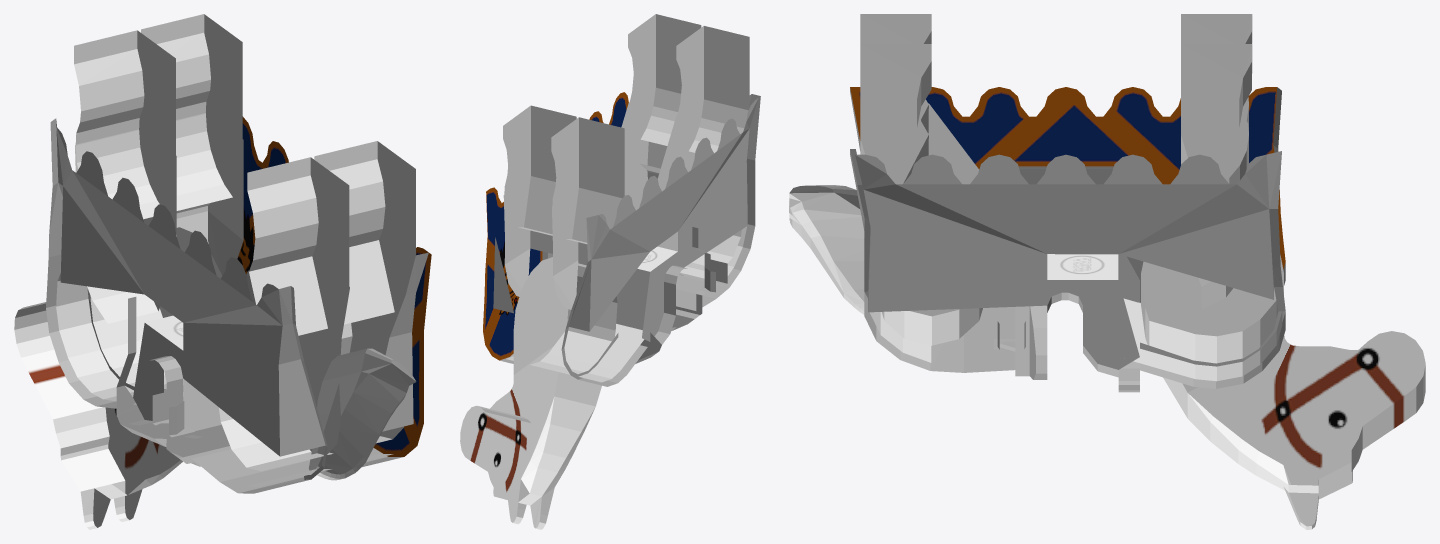
3 views of the same model, side by side, from view 1: azimuth 30°, elevation 25°; view 2: azimuth 150°, elevation 25°; view 3: azimuth 270°, elevation 25° (orthographic). The views are drawn at different scales.
Parts seen in each view (by area): view 1: 012_shape3, 019_shape8, 031_shape12, 040_shape14, 025_shape8, 037_shape12, 043_shape16, 028_shape10, 022_shape6, 016_shape6, 034_shape10; view 2: 012_shape3, 040_shape14, 019_shape8, 031_shape12, 025_shape8, 037_shape12, 028_shape10, 034_shape10, 022_shape6, 016_shape6; view 3: 012_shape3, 040_shape14, 025_shape8, 037_shape12, 043_shape16, 034_shape10, 031_shape12, 019_shape8, 028_shape10.
Boxes of the visible parts, <box> form: 012_shape3: <box>46,116,431,493</box>; 019_shape8: <box>74,30,175,219</box>; 031_shape12: <box>247,157,349,335</box>; 040_shape14: <box>14,227,221,529</box>; 025_shape8: <box>141,14,242,210</box>; 037_shape12: <box>314,141,415,324</box>; 043_shape16: <box>308,348,416,480</box>; 028_shape10: <box>219,270,349,471</box>; 022_shape6: <box>176,113,243,275</box>; 016_shape6: <box>75,129,176,323</box>; 034_shape10: <box>327,310,403,454</box>; 012_shape3: <box>483,92,760,386</box>; 040_shape14: <box>460,257,617,529</box>; 019_shape8: <box>551,117,624,244</box>; 031_shape12: <box>676,26,749,153</box>; 025_shape8: <box>503,105,576,235</box>; 037_shape12: <box>628,14,701,145</box>; 028_shape10: <box>657,99,748,270</box>; 034_shape10: <box>621,87,680,210</box>; 022_shape6: <box>503,195,552,296</box>; 016_shape6: <box>552,207,587,309</box>; 012_shape3: <box>850,87,1285,392</box>; 040_shape14: <box>1141,255,1425,529</box>; 025_shape8: <box>1181,44,1252,184</box>; 037_shape12: <box>860,44,931,184</box>; 043_shape16: <box>789,185,864,314</box>; 034_shape10: <box>860,133,982,345</box>; 031_shape12: <box>860,14,931,133</box>; 019_shape8: <box>1181,14,1252,130</box>; 028_shape10: <box>928,103,978,184</box>.
Size of the model in its own units: 2.56 by 5.92 by 7.15.
5 materials, 3 textured.
